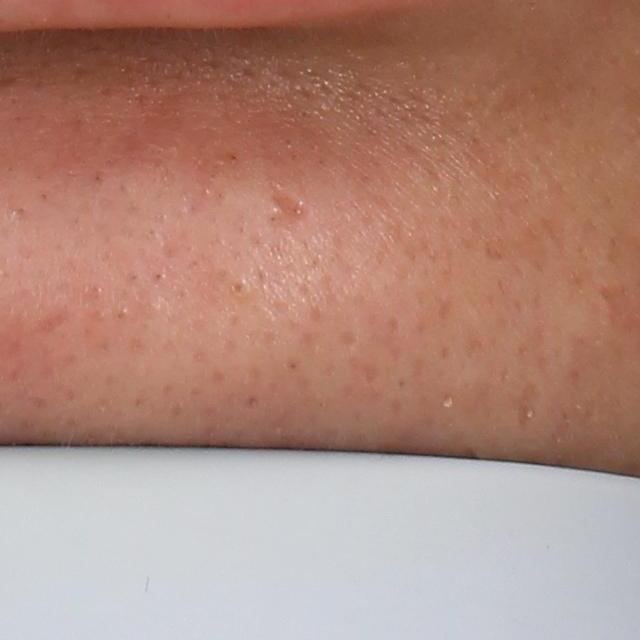atrophic_scar: (515, 382, 540, 430)
comedo: (226, 275, 256, 302)
